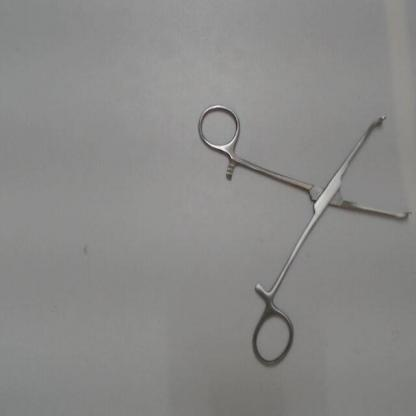Allis Tissue Forceps: (192, 94, 414, 376)
